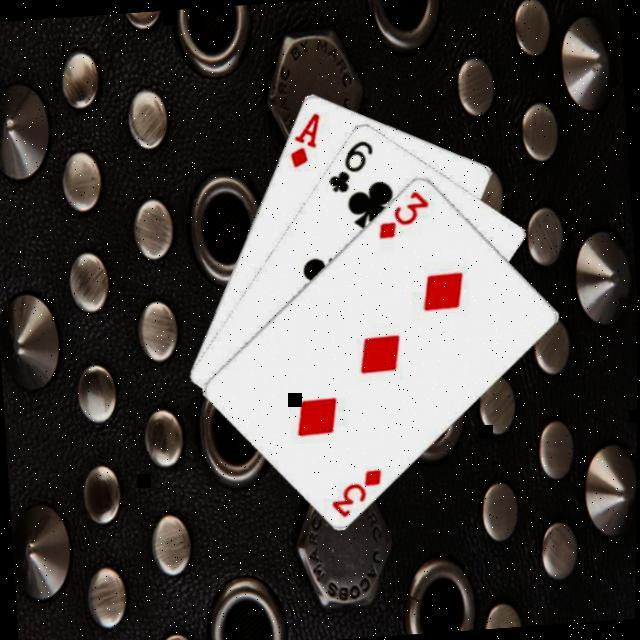3D: (371, 188, 432, 244), (325, 466, 385, 522)
6C: (320, 138, 376, 198)
AD: (281, 110, 323, 172)
